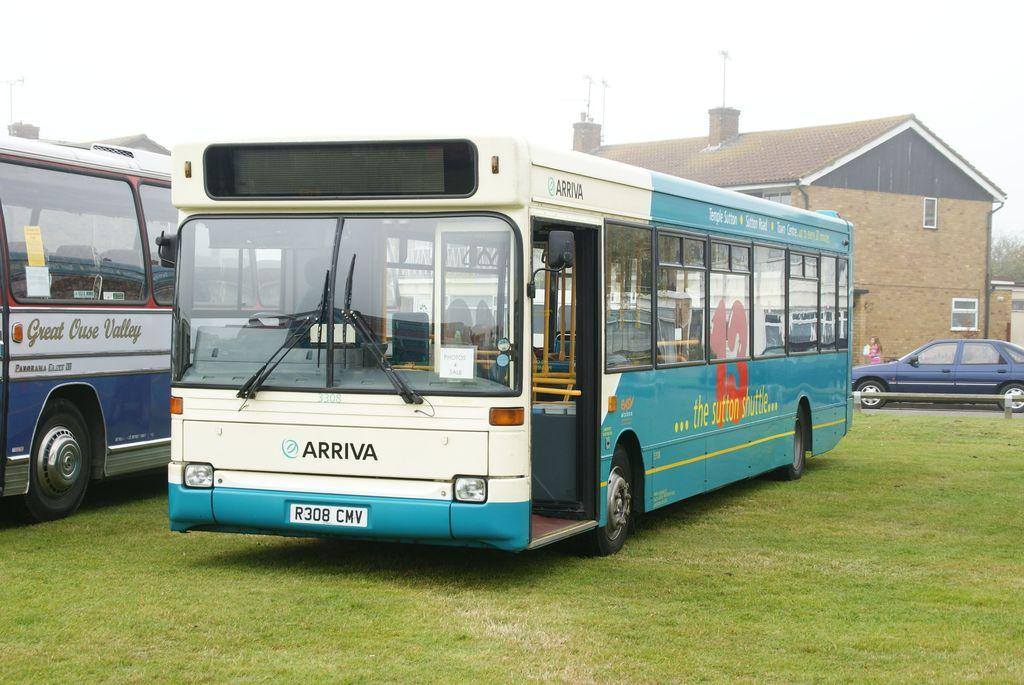vehicle: (156, 131, 852, 557), (0, 133, 284, 520), (840, 339, 1023, 408)
